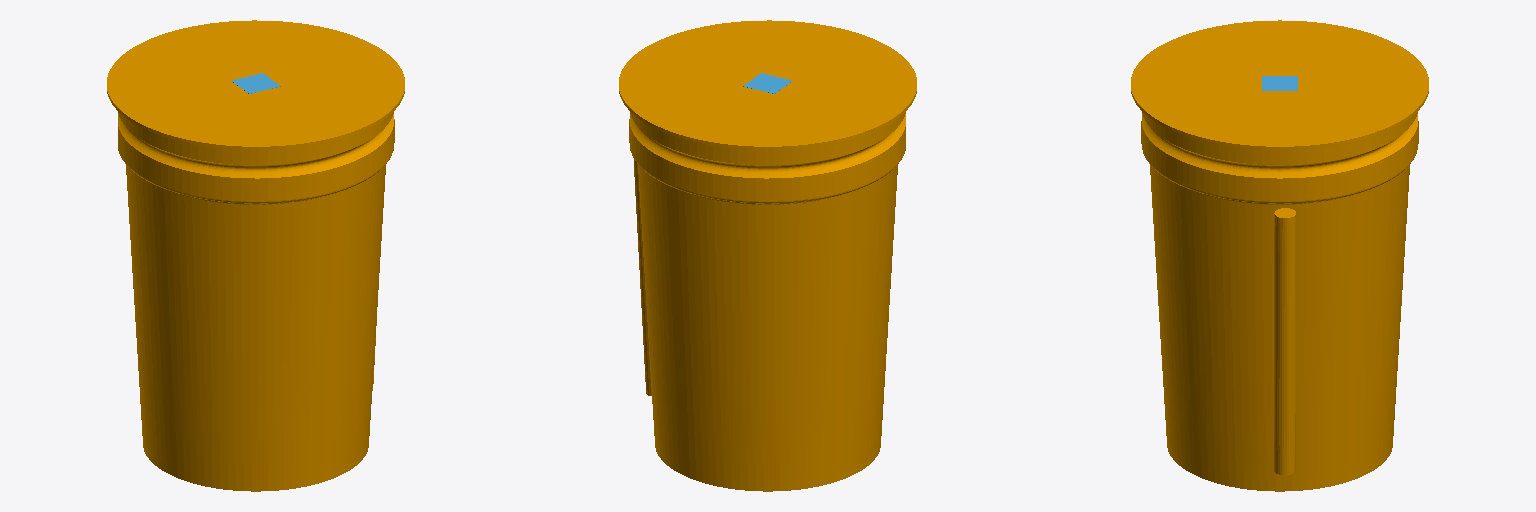
robot.urdf — drink:
<?xml version="1.0"?>
<robot name="drink">
  <link name="drink">
    <inertial>
      <origin xyz="0 0 0"/>
      <mass value="0.3"/>
      <inertia ixx="1" ixy="0" ixz="0" iyy="1" iyz="0" izz="1"/>
    </inertial>
    <collision>
      <origin xyz="0 0 0"/>
      <geometry>
        <mesh filename="package://fcsc_description/mesh/drink.stl" scale="1 1 1"/>
      </geometry>
    </collision>
    <visual>
      <origin xyz="0 0 0"/>
      <geometry>
        <mesh filename="package://fcsc_description/mesh/drink.stl" scale="1 1 1"/>
      </geometry>
    </visual>
  </link>

  <link name="ar_marker">
    <inertial>
      <origin xyz="0 0 0"/>
      <mass value="0.00000001"/>
      <inertia ixx="1" ixy="0" ixz="0" iyy="1" iyz="0" izz="1"/>
    </inertial>
    <collision>
      <origin xyz="0 0 0"/>
      <geometry>
        <box size="0.01 0.01 0.0001"/>
      </geometry>
    </collision>
    <visual>
      <origin xyz="0 0 0"/>
      <geometry>
        <box size="0.01 0.01 0.0001"/>
      </geometry>
      <material name="ar_marker_0">
        <texture filename="package://fcsc_description/image/MarkerData_0.png"/>
      </material>
    </visual>
  </link>
  <gazebo reference="ar_marker">
    <material>ar_marker_0</material>
  </gazebo>
  
  
  <joint name="ar" type="fixed">
    <parent link="drink"/>
    <child link="ar_marker"/>
    <origin xyz="0 0 0.109" rpy="0 0 0"/>
  </joint>

</robot>

--- Render facts (derived) ---
The picture shows the robot from 3 angles, left to right: view 1: azimuth 30°, elevation 25°; view 2: azimuth 150°, elevation 25°; view 3: azimuth 270°, elevation 25°; orthographic projection.
Model drink with 2 links and 1 joints (1 fixed), rooted at drink, posed all joints at 0.
Visible links, largest first — view 1: drink, ar_marker; view 2: drink, ar_marker; view 3: drink, ar_marker.
Link boxes in pixels (x1,y1,x2,y2): drink: (107,20,404,491); ar_marker: (232,73,280,93); drink: (619,20,916,491); ar_marker: (743,73,791,93); drink: (1131,20,1428,491); ar_marker: (1262,76,1297,90).
Size in the robot's own frame: 0.0829 by 0.082 by 0.109 metres.
1 mesh visuals loaded from 1 distinct referenced files (1 binary STL).